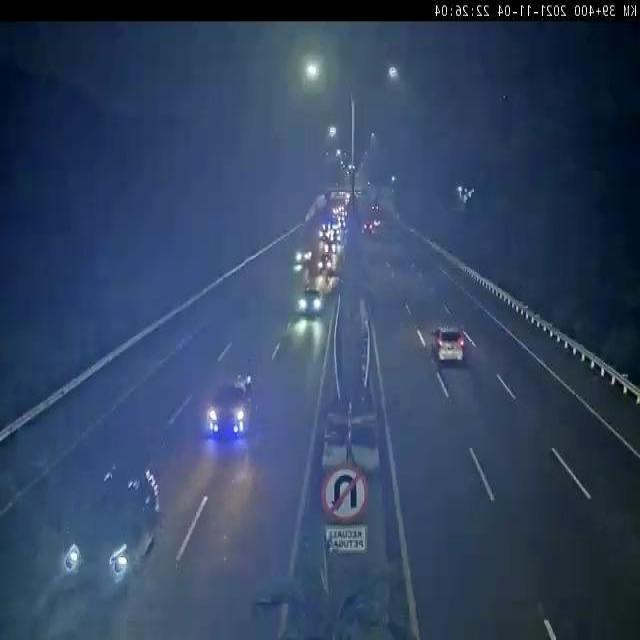Car: (47, 450, 179, 619), (194, 359, 272, 456), (425, 311, 476, 376), (295, 282, 328, 319), (290, 239, 312, 267), (316, 252, 334, 277), (322, 236, 339, 256)
